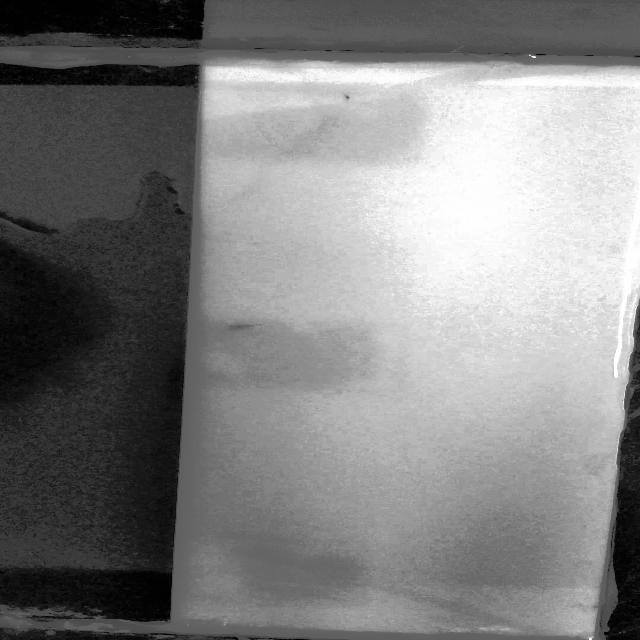shrimp: (222, 318, 274, 332), (338, 91, 359, 108)
